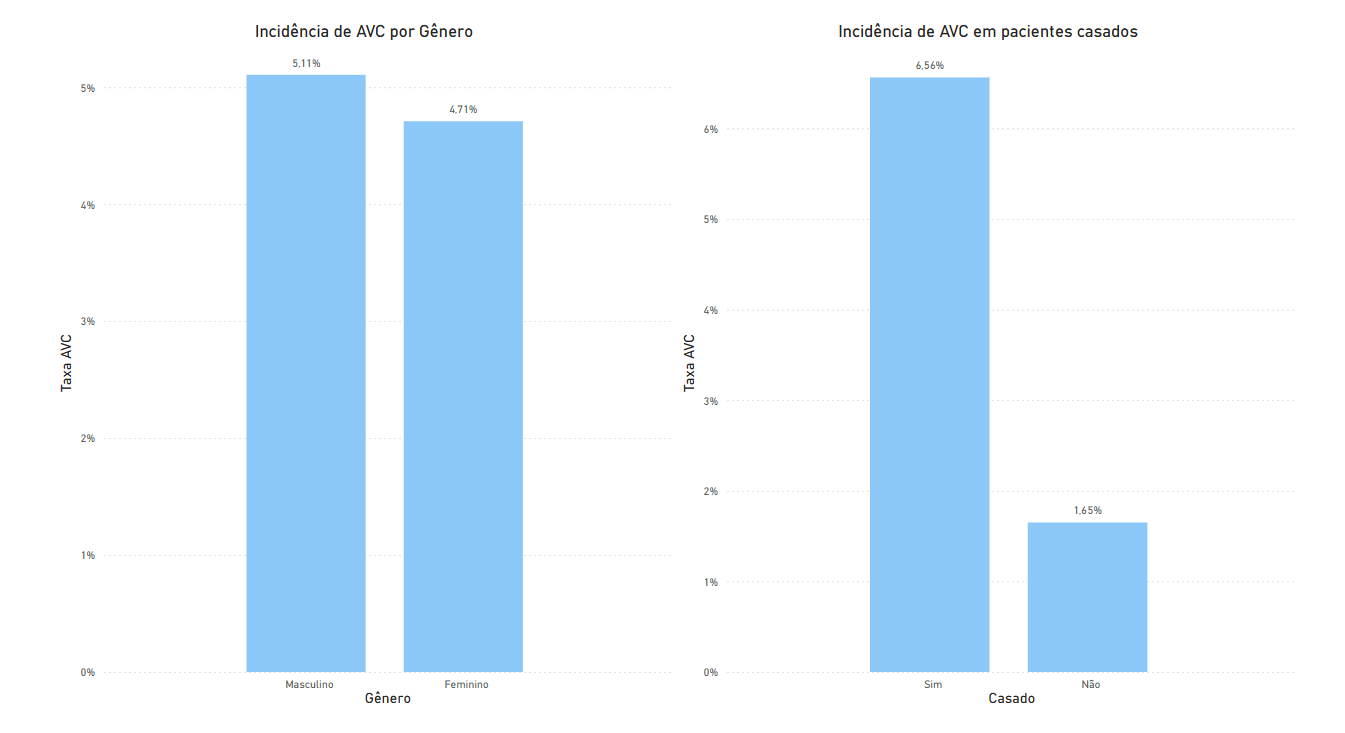

The page's visual inventory and layout, read from the dashboard file:
{"tool":"powerbi","page":{"name":"Página 2","canvas":[1280,720],"ordinal":1},"visuals":[{"type":"columnChart","title":"Incidência de AVC por Gênero","fields":{"Category":["public pacientes_avc.Gênero"],"Y":["public pacientes_avc.Taxa AVC"]},"box":[31.7,15.4,623,689.2],"z":0},{"type":"columnChart","title":"Incidência de AVC em pacientes casados","fields":{"Y":["public pacientes_avc.Taxa AVC"],"Category":["public pacientes_avc.Casado?"]},"box":[654.7,15.4,625.7,689.2],"z":1000}]}

Visuals, with their boxes on the page's 1280x720 design canvas (x1, y1, x2, y2). These are canvas units, not pixel positions in the 1345x733 screenshot, which may show the page scaled, cropped or inside an application window:
"Incidência de AVC por Gênero" columnChart: bbox(32, 15, 655, 705)
"Incidência de AVC em pacientes casados" columnChart: bbox(655, 15, 1280, 705)
